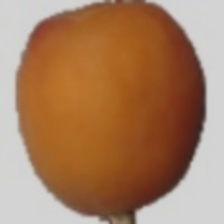apricot: (13, 33, 182, 170)
